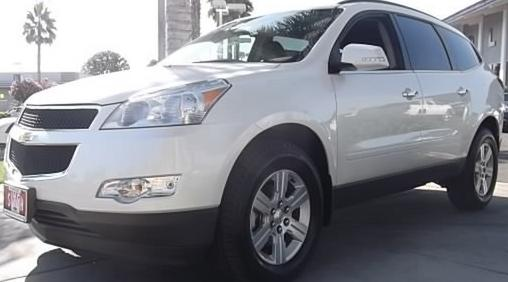front_view: (3, 77, 231, 266)
headlight: (96, 75, 239, 136)
side_glass: (334, 5, 484, 82)
